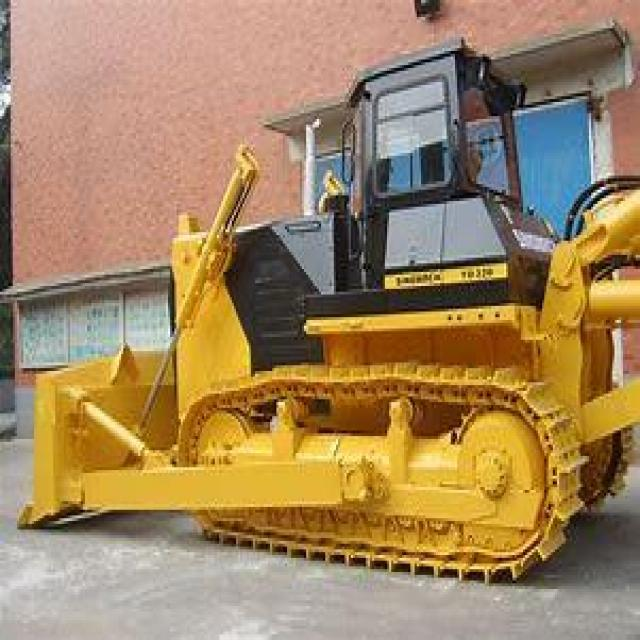Bulldozer: (13, 43, 638, 586)
